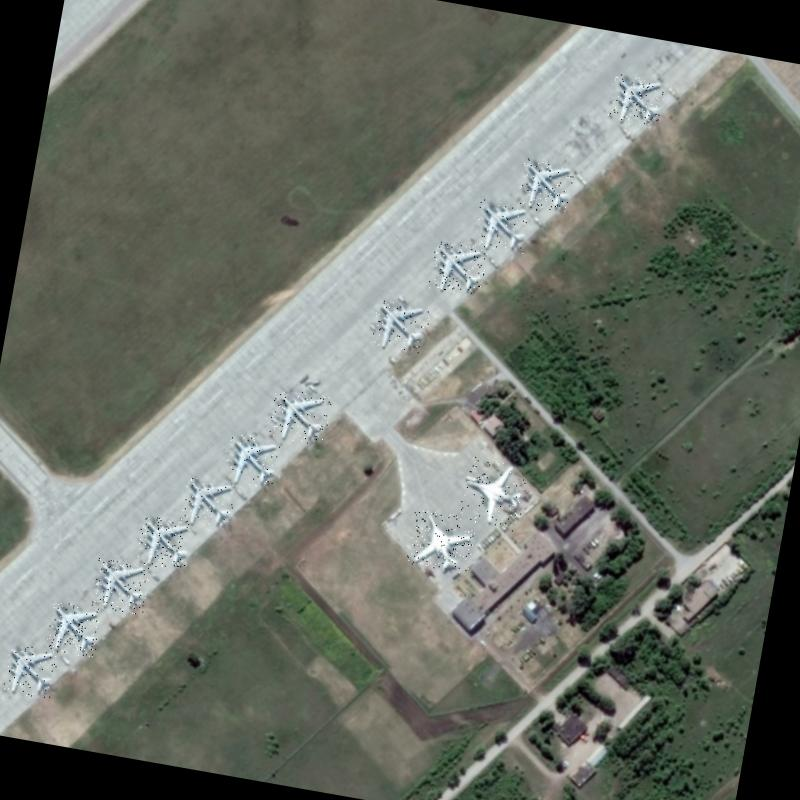A17: (268, 388, 332, 446), (90, 558, 152, 616), (516, 158, 575, 216), (223, 432, 282, 490), (134, 514, 193, 572), (606, 73, 666, 130), (472, 199, 532, 256), (45, 601, 103, 659), (428, 241, 488, 297), (370, 299, 431, 354), (3, 642, 60, 700), (180, 476, 237, 532)
A6: (457, 456, 530, 532), (406, 508, 478, 574)
